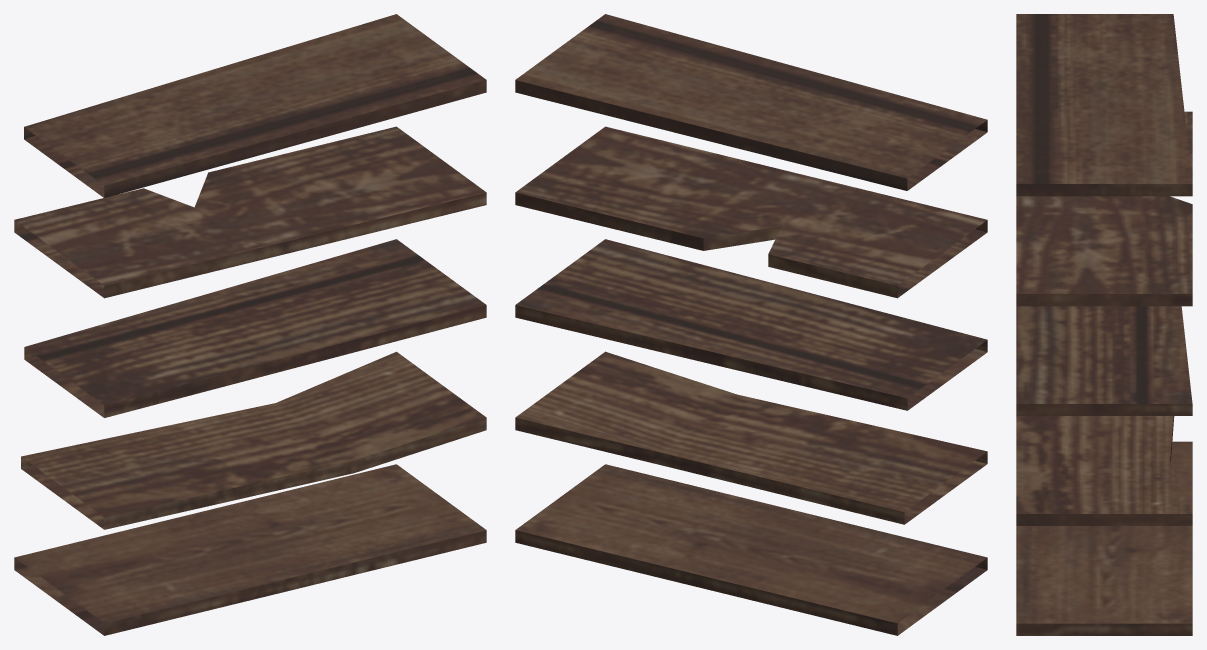
File: Bibliothek_Bookshelf_Logs_L.fbx
3 views of the same model, side by side, from view 1: azimuth 30°, elevation 25°; view 2: azimuth 150°, elevation 25°; view 3: azimuth 270°, elevation 25° (orthographic). The views are drawn at different scales.
Visible parts, largest first — view 1: Bibliothek_Bookshelf_Logs_L; view 2: Bibliothek_Bookshelf_Logs_L; view 3: Bibliothek_Bookshelf_Logs_L.
Boxes of the visible parts, x1,y1,x2,y2 form: Bibliothek_Bookshelf_Logs_L: [14, 14, 486, 635]; Bibliothek_Bookshelf_Logs_L: [515, 14, 987, 635]; Bibliothek_Bookshelf_Logs_L: [1016, 14, 1192, 635].
Bounding box in the file's own units: 160 × 185 × 65.33.
